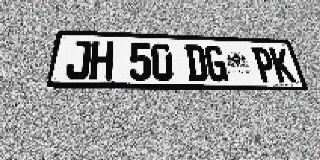0: (151, 43, 174, 81)
5: (130, 42, 152, 81)
D: (184, 44, 209, 81)
G: (204, 45, 229, 82)
H: (89, 41, 114, 80)
J: (65, 40, 92, 80)
K: (269, 48, 297, 82)
P: (251, 47, 278, 82)
